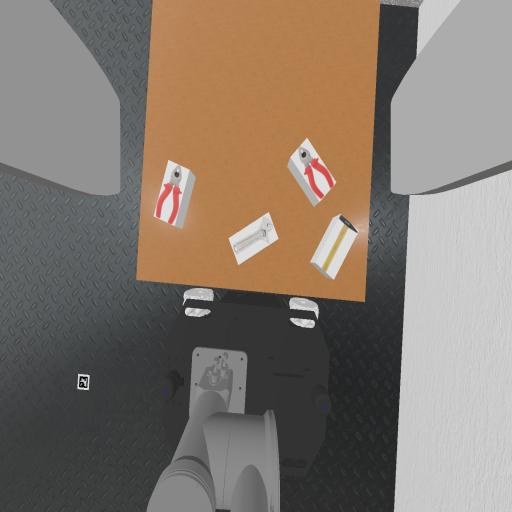hammer: (322, 216, 357, 271)
pliers: (300, 148, 334, 199), (157, 166, 181, 223)
wrench: (234, 218, 273, 254)
